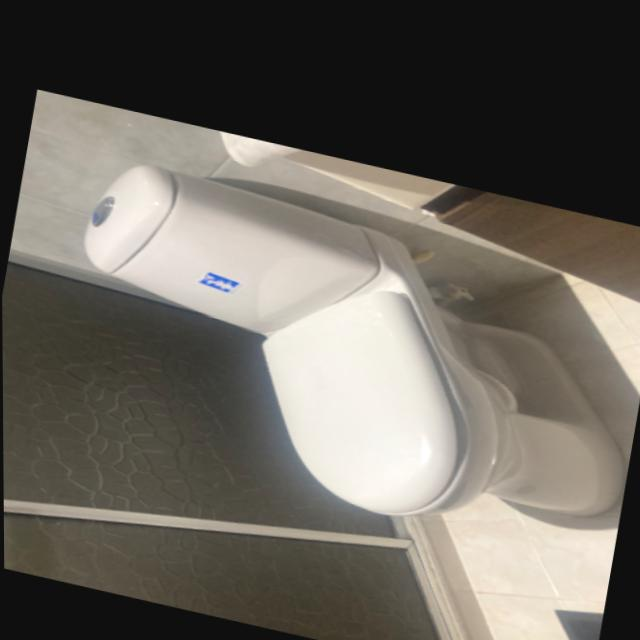toilet: (48, 147, 640, 560)
